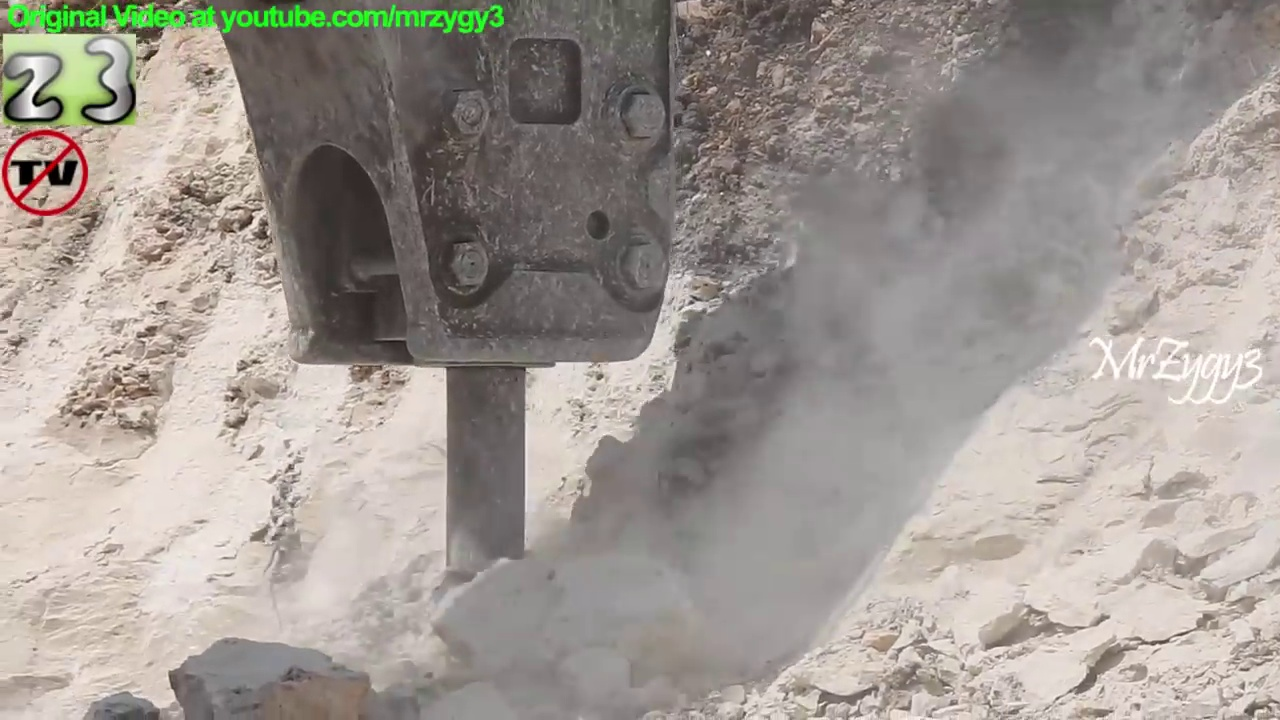excavator: (200, 1, 692, 644)
